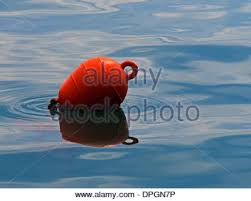buoy: (57, 57, 127, 107)
